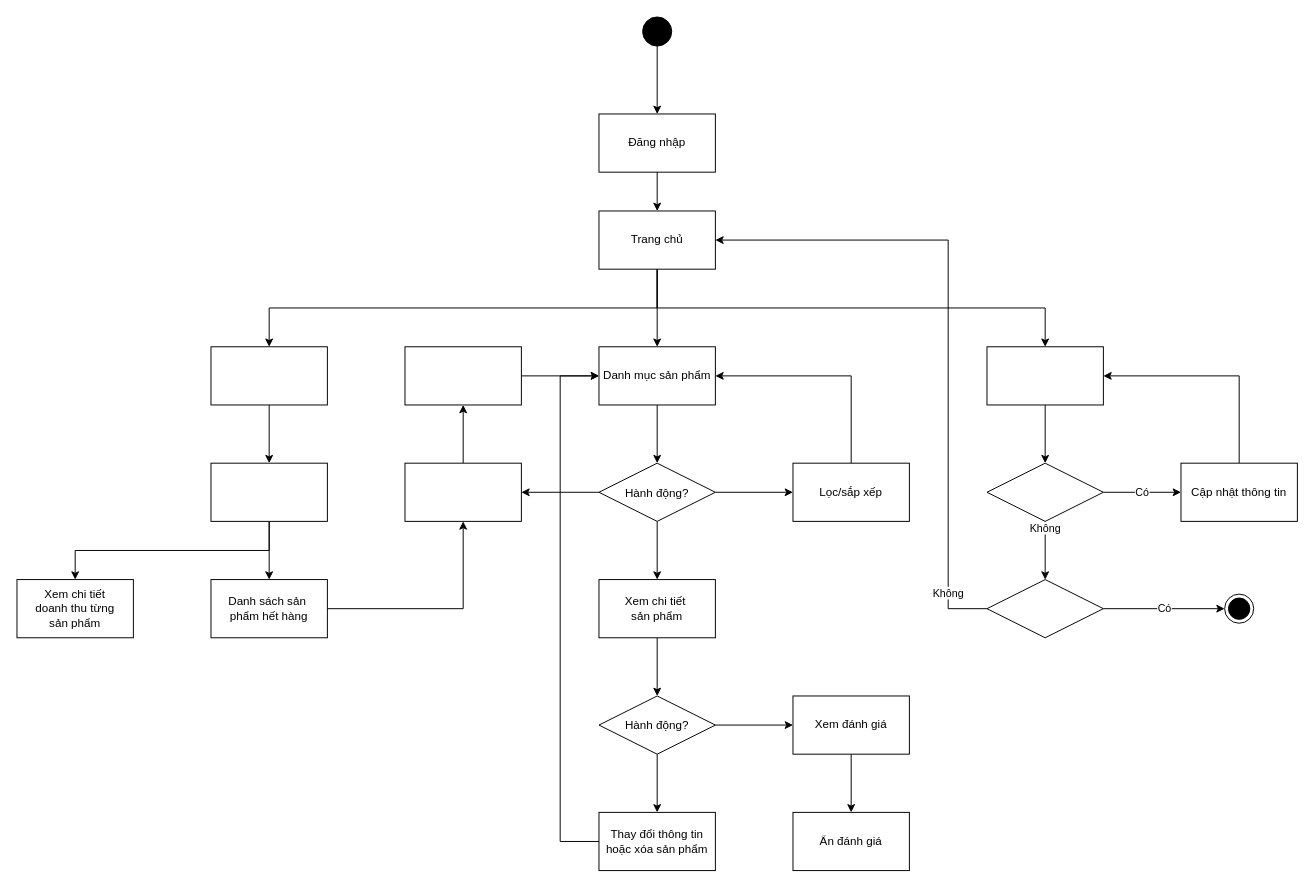
The diagram is 1314 pixels wide and 888 high, and some of its shapes have lost their labels. The shapes that lost their labels are listed below. From the top down, each one's box as (x1, y1, x2, y2) in pixels, then its label:
(210, 346, 327, 405): Thống kê doanh thu
(404, 346, 521, 405): Thêm thông tin, số lượng, đơn giá
(986, 346, 1103, 405): Xem thông tin tài khoản
(210, 462, 327, 521): Danh sách sản phẩm và doanh thu
(404, 462, 521, 521): Thêm sản phẩm
(986, 462, 1103, 521): Thay đổi?
(986, 579, 1103, 638): Đăng xuất?
